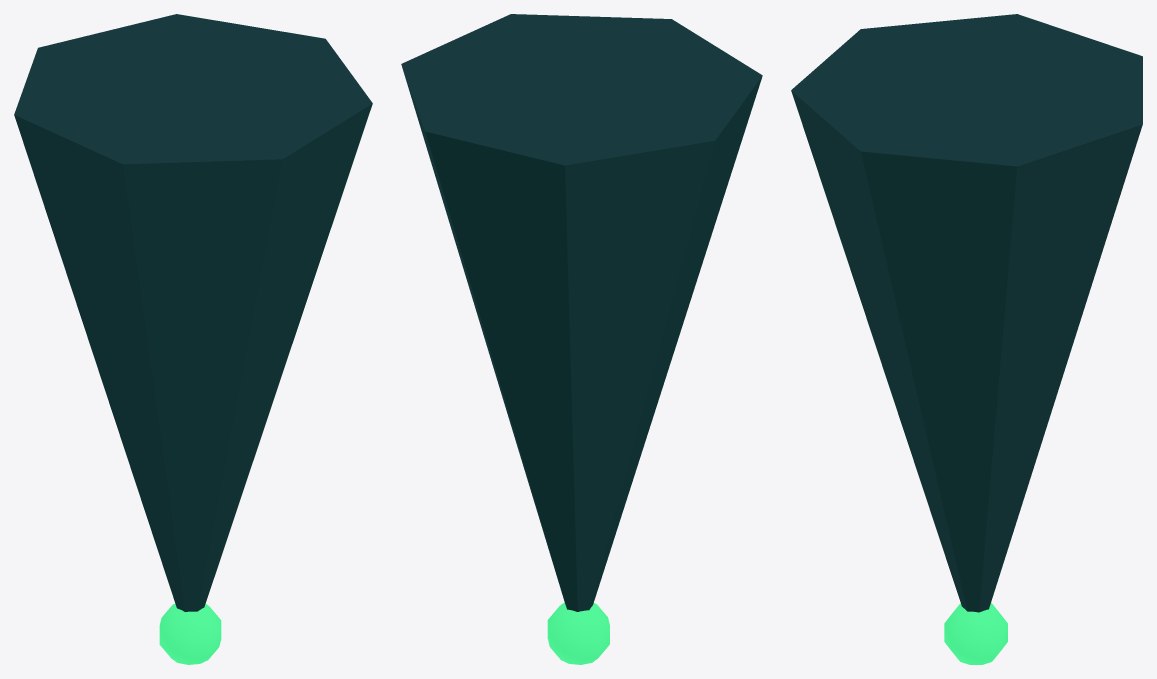
File: prop_stalactite.glb
3 views of the same model, side by side, from view 1: azimuth 30°, elevation 25°; view 2: azimuth 150°, elevation 25°; view 3: azimuth 270°, elevation 25° (orthographic).
Visible parts, largest first — view 1: prop_stalactite; view 2: prop_stalactite; view 3: prop_stalactite.
Boxes of the visible parts, bbox=[...] form: prop_stalactite: bbox=[14, 14, 372, 664]; prop_stalactite: bbox=[401, 14, 762, 664]; prop_stalactite: bbox=[791, 14, 1142, 664].
Bounding box in the file's own units: 1.46 × 2.56 × 1.43.
